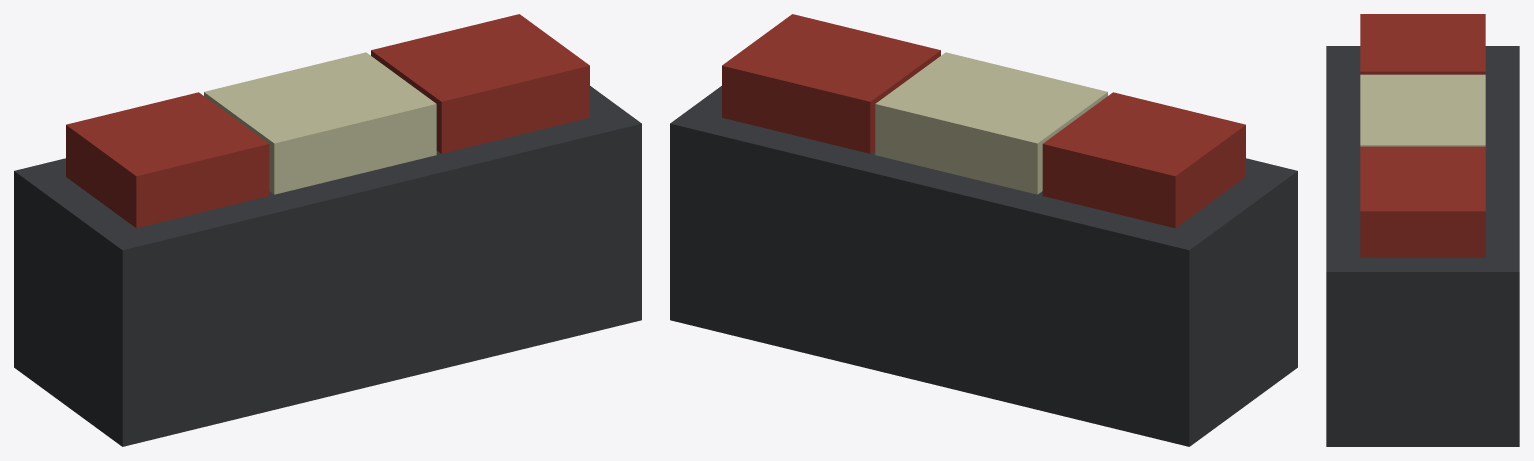
Rendered from buton1 (5).fbx.
3 views of the same model, side by side, from view 1: azimuth 30°, elevation 25°; view 2: azimuth 150°, elevation 25°; view 3: azimuth 270°, elevation 25° (orthographic). The views are drawn at different scales.
Parts seen in each view (by area): view 1: SM_Prop_Button_01, SM_Prop_Button_01.001, SM_Prop_Button_01.002, SM_Prop_Button_01.003; view 2: SM_Prop_Button_01, SM_Prop_Button_01.001, SM_Prop_Button_01.002, SM_Prop_Button_01.003; view 3: SM_Prop_Button_01, SM_Prop_Button_01.003, SM_Prop_Button_01.001, SM_Prop_Button_01.002.
Part boxes in pixels (x1=…): SM_Prop_Button_01: x1=14, y1=86, x2=641, y2=446; SM_Prop_Button_01.001: x1=204, y1=52, x2=436, y2=194; SM_Prop_Button_01.002: x1=66, y1=92, x2=269, y2=228; SM_Prop_Button_01.003: x1=371, y1=14, x2=589, y2=153; SM_Prop_Button_01: x1=670, y1=86, x2=1297, y2=446; SM_Prop_Button_01.001: x1=875, y1=52, x2=1107, y2=194; SM_Prop_Button_01.002: x1=1042, y1=92, x2=1245, y2=228; SM_Prop_Button_01.003: x1=722, y1=14, x2=940, y2=153; SM_Prop_Button_01: x1=1326, y1=46, x2=1519, y2=446; SM_Prop_Button_01.003: x1=1360, y1=146, x2=1485, y2=257; SM_Prop_Button_01.001: x1=1360, y1=74, x2=1485, y2=146; SM_Prop_Button_01.002: x1=1360, y1=14, x2=1485, y2=74.
Bounding box in the file's own units: 34.46 × 15.77 × 12.47.
